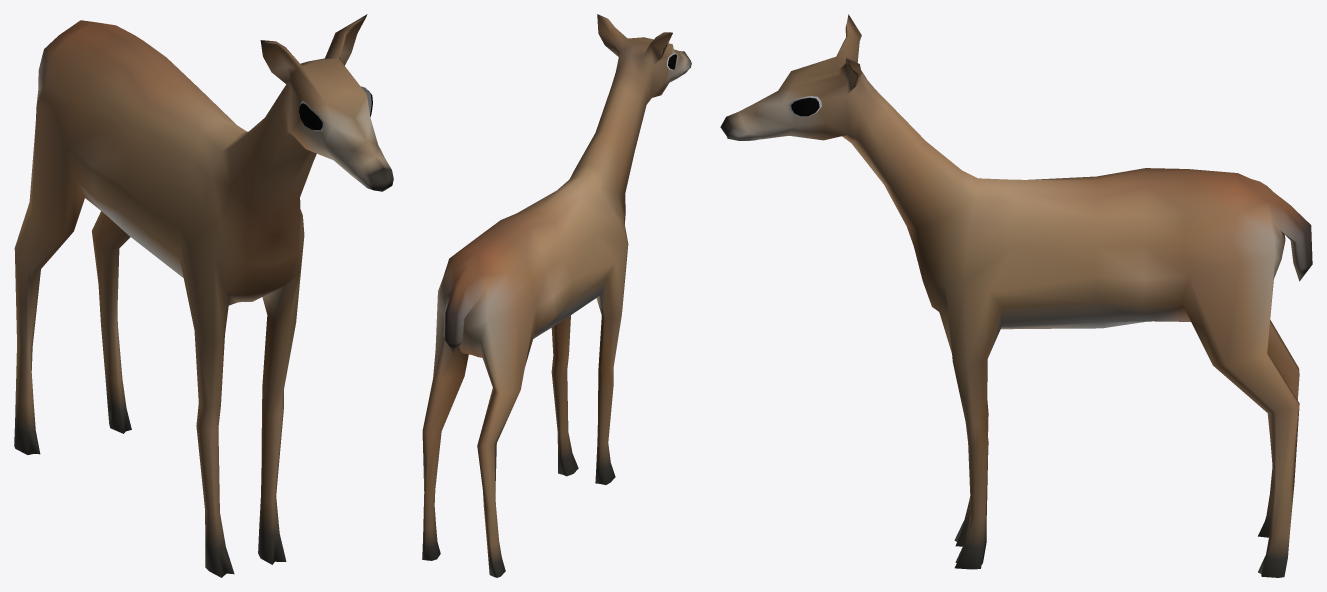
The model's file is Deer2.gltf.
3 views of the same model, side by side, from view 1: azimuth 30°, elevation 25°; view 2: azimuth 150°, elevation 25°; view 3: azimuth 270°, elevation 25° (orthographic). The views are drawn at different scales.
Parts seen in each view (by area): view 1: alt585; view 2: alt585; view 3: alt585.
Boxes of the visible parts, <box> form: alt585: <box>14,14,393,577</box>; alt585: <box>422,14,691,577</box>; alt585: <box>720,14,1312,577</box>.
Bounding box in the file's own units: 0.3169 × 1.6 × 1.66.
